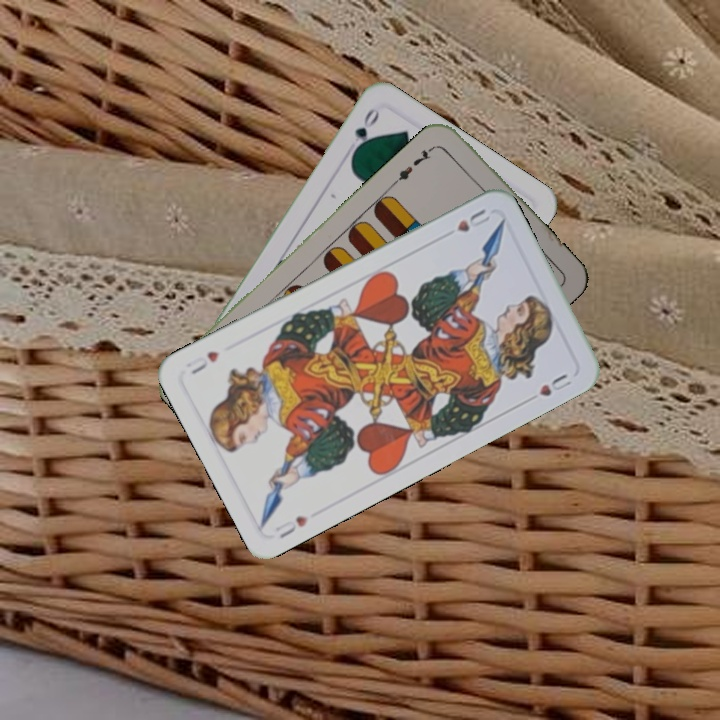E7: (391, 141, 438, 186)
GO: (348, 104, 382, 158)
HU: (452, 205, 493, 235), (271, 512, 310, 541)
